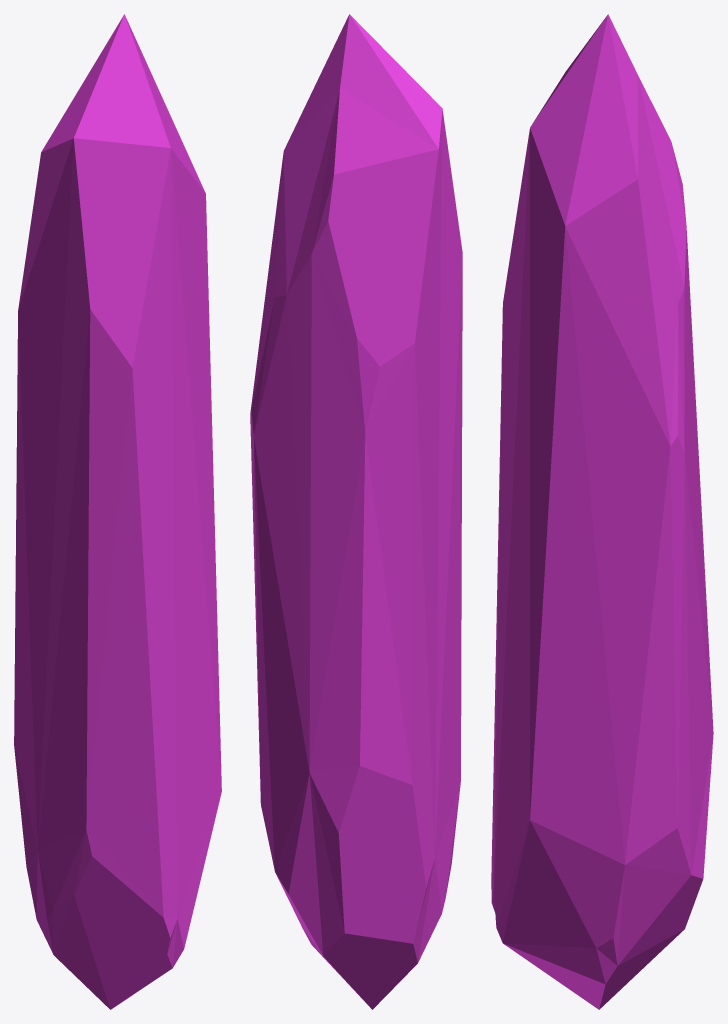
File: sm_Crystal01.fbx
3 views of the same model, side by side, from view 1: azimuth 30°, elevation 25°; view 2: azimuth 150°, elevation 25°; view 3: azimuth 270°, elevation 25° (orthographic).
Parts seen in each view (by area): view 1: Crystal01; view 2: Crystal01; view 3: Crystal01.
Boxes of the visible parts, x1=… form: Crystal01: x1=14, y1=14, x2=221, y2=1009; Crystal01: x1=250, y1=14, x2=462, y2=1009; Crystal01: x1=491, y1=14, x2=713, y2=1009.
Bounding box in the file's own units: 191 × 1150 × 230.
